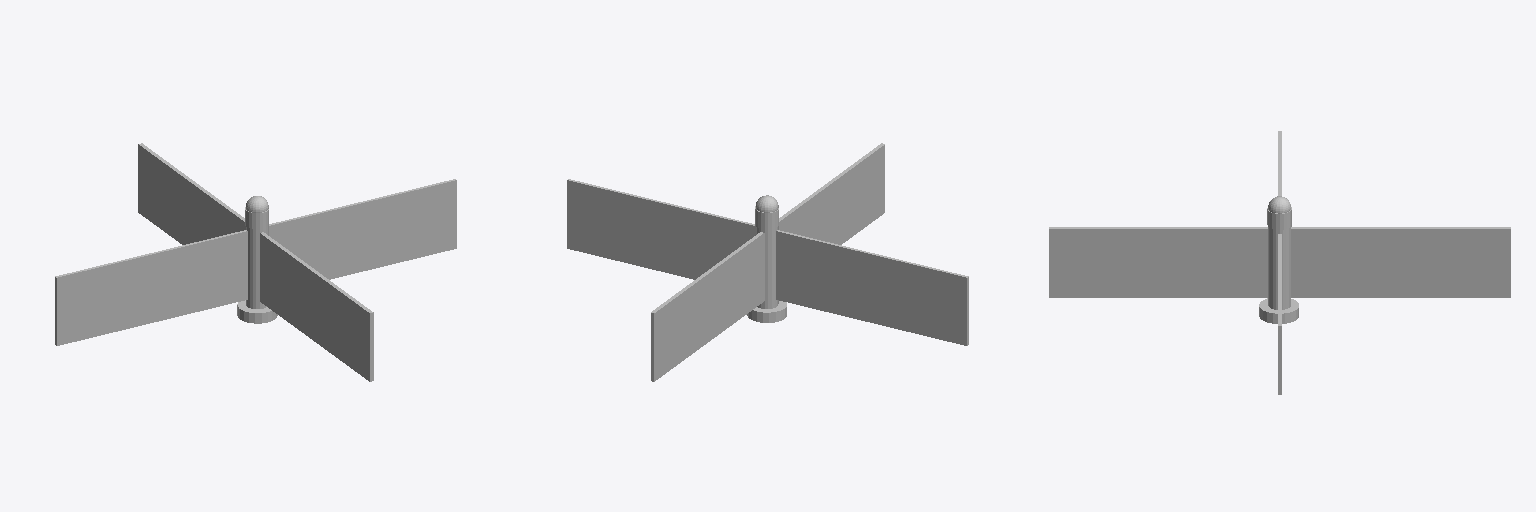
The model's file is fan.obj.
The picture shows the model from 3 angles: view 1: azimuth 30°, elevation 25°; view 2: azimuth 150°, elevation 25°; view 3: azimuth 270°, elevation 25°; orthographic projection.
Parts seen in each view (by area): view 1: pCube1, pCube2, pCylinder1, pCylinder3; view 2: pCube1, pCube2, pCylinder1, pCylinder3; view 3: pCube2, pCylinder1, pCube1, pCylinder3.
Boxes of the visible parts, x1,y1,x2,y2 form: pCube1: [55, 179, 456, 345]; pCube2: [138, 143, 373, 381]; pCylinder1: [246, 227, 268, 308]; pCylinder3: [237, 300, 277, 323]; pCube1: [567, 179, 968, 345]; pCube2: [651, 143, 884, 381]; pCylinder1: [756, 226, 778, 308]; pCylinder3: [747, 301, 786, 322]; pCube2: [1049, 227, 1510, 297]; pCylinder1: [1268, 227, 1290, 309]; pCube1: [1278, 131, 1281, 394]; pCylinder3: [1259, 298, 1298, 323].
Size of the model in its own units: 6.5 by 1.84 by 6.5.